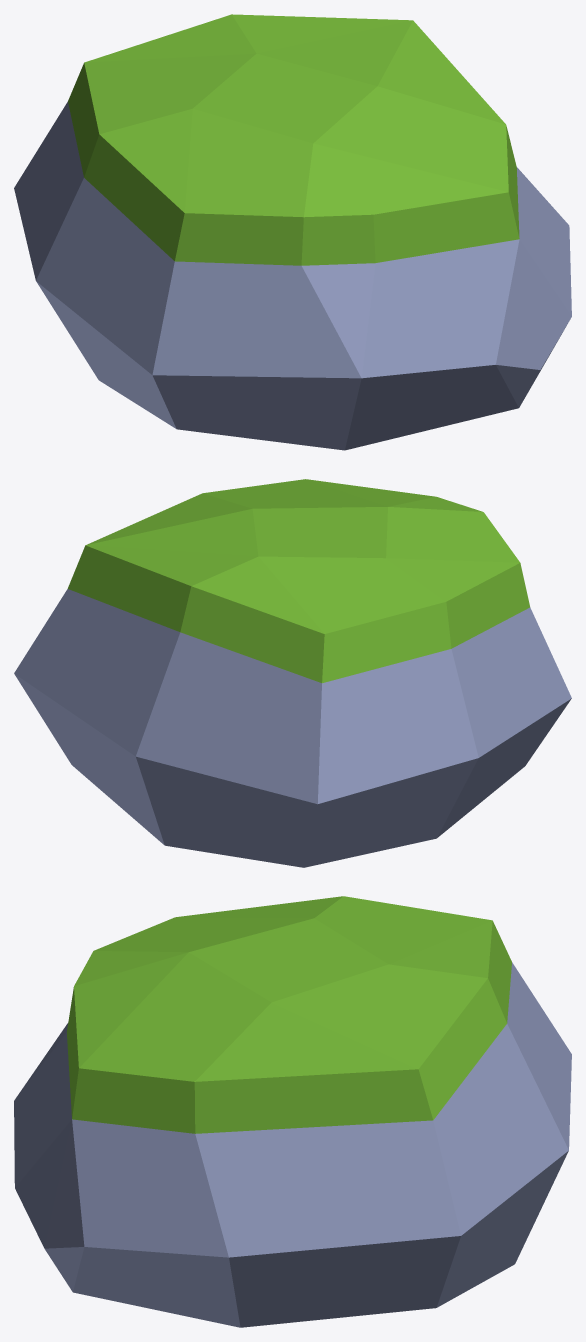
Rendered from Stone_6_1.fbx.
The picture shows the model from 3 angles, top to bottom: view 1: azimuth 30°, elevation 25°; view 2: azimuth 150°, elevation 25°; view 3: azimuth 270°, elevation 25°; orthographic projection. The views are drawn at different scales.
Parts seen in each view (by area): view 1: Stone_6_1; view 2: Stone_6_1; view 3: Stone_6_1.
Boxes of the visible parts, x1,y1,x2,y2 form: Stone_6_1: [14, 14, 571, 450]; Stone_6_1: [14, 479, 571, 867]; Stone_6_1: [14, 896, 571, 1327].
Size of the model in its own units: 0.85 by 0.5249 by 0.8667.
